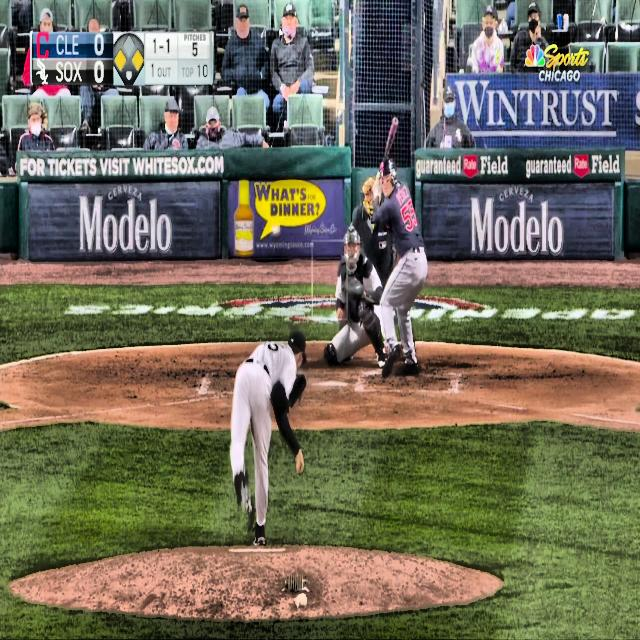baseball: (271, 224, 282, 237)
